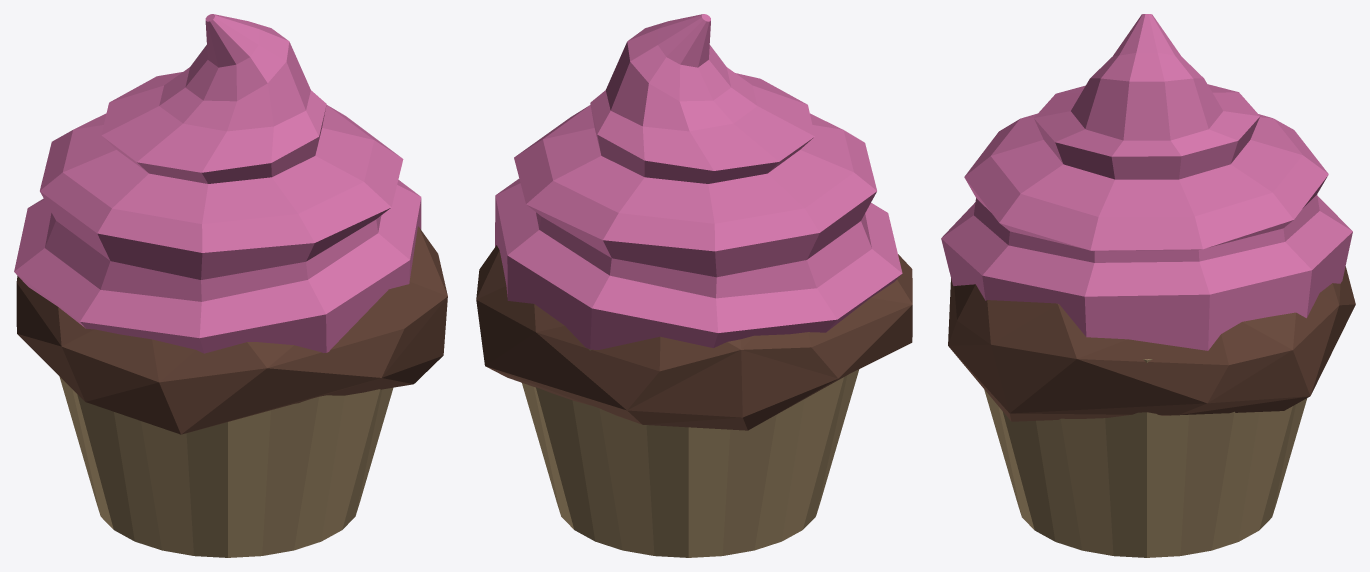
The model's file is Cupcake.glb.
The picture shows the model from 3 angles, left to right: view 1: azimuth 30°, elevation 25°; view 2: azimuth 150°, elevation 25°; view 3: azimuth 270°, elevation 25°; orthographic projection.
Parts seen in each view (by area): view 1: Cupcake.001; view 2: Cupcake.001; view 3: Cupcake.001.
Boxes of the visible parts, bbox=[...] form: Cupcake.001: bbox=[14, 14, 447, 557]; Cupcake.001: bbox=[476, 14, 912, 557]; Cupcake.001: bbox=[941, 14, 1355, 557].
Size of the model in its own units: 0.6607 by 0.8384 by 0.6532.
